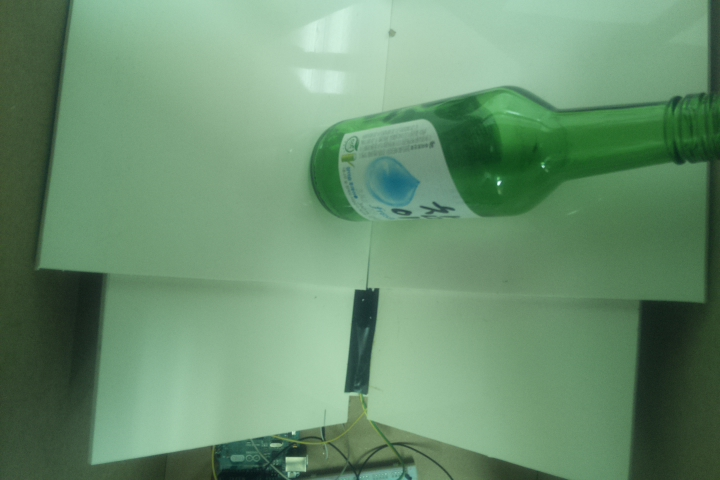soju: (309, 83, 720, 223)
